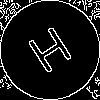H: (25, 25, 80, 83)
